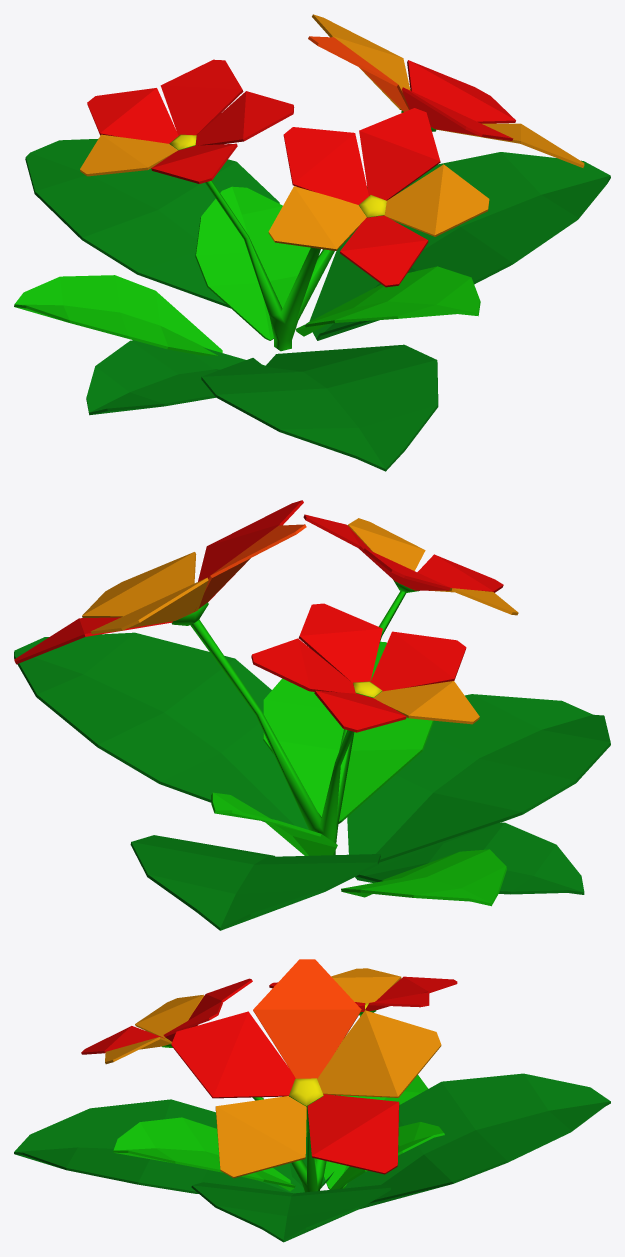
File: Flower08_V2.fbx
The picture shows the model from 3 angles, top to bottom: view 1: azimuth 30°, elevation 25°; view 2: azimuth 150°, elevation 25°; view 3: azimuth 270°, elevation 25°; orthographic projection. The views are drawn at different scales.
Visible parts, largest first — view 1: Cube.006; view 2: Cube.006; view 3: Cube.006.
Part boxes in pixels (x1,y1,x2,y2): Cube.006: [14, 14, 610, 471]; Cube.006: [14, 500, 610, 930]; Cube.006: [14, 959, 610, 1242].
Size of the model in its own units: 64.81 by 37.83 by 74.96.
